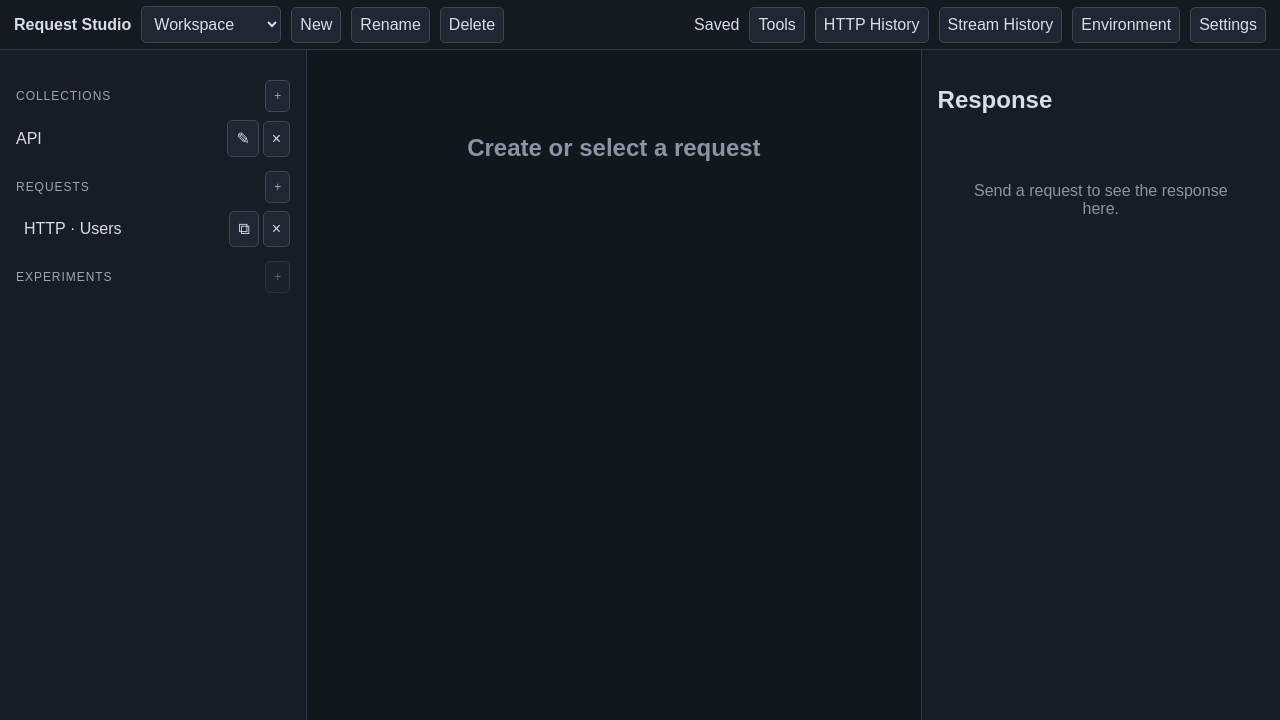
Test: opens and closes Request Export from the Tools menu
Check: the text "API" is shown, box [16, 130, 42, 146]
Click the button "Tools": (777, 24) [750, 6, 805, 42]
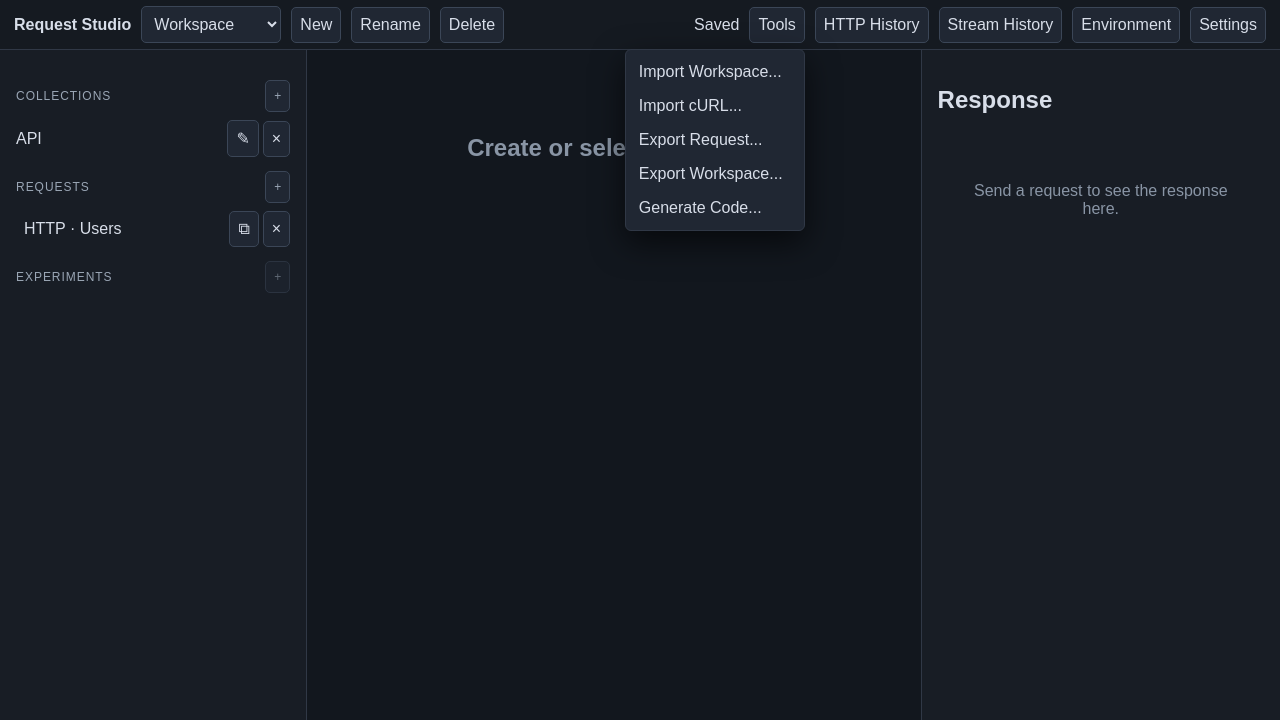
Click the menu item "Export Request...": (715, 140) [631, 122, 799, 156]
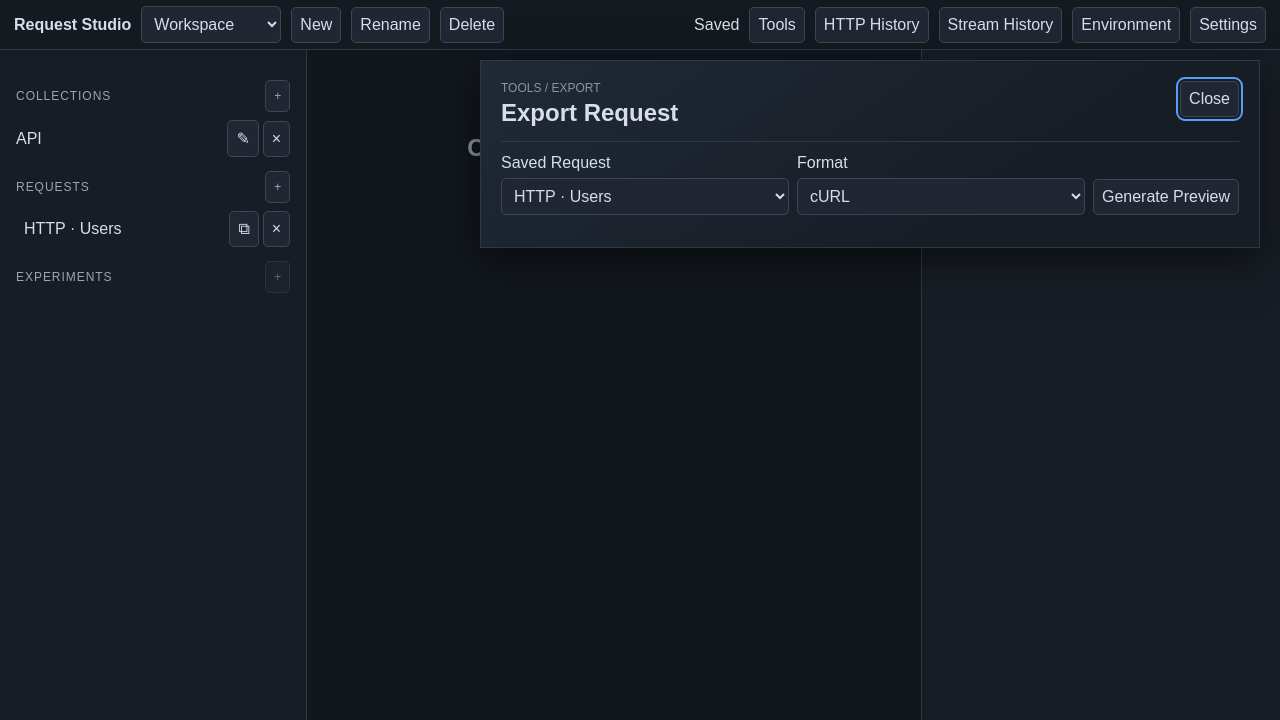
Check: the dialog "Export Request" is shown, box [480, 60, 1260, 248]
Click the button "Close": (1210, 99) [1180, 81, 1239, 117]
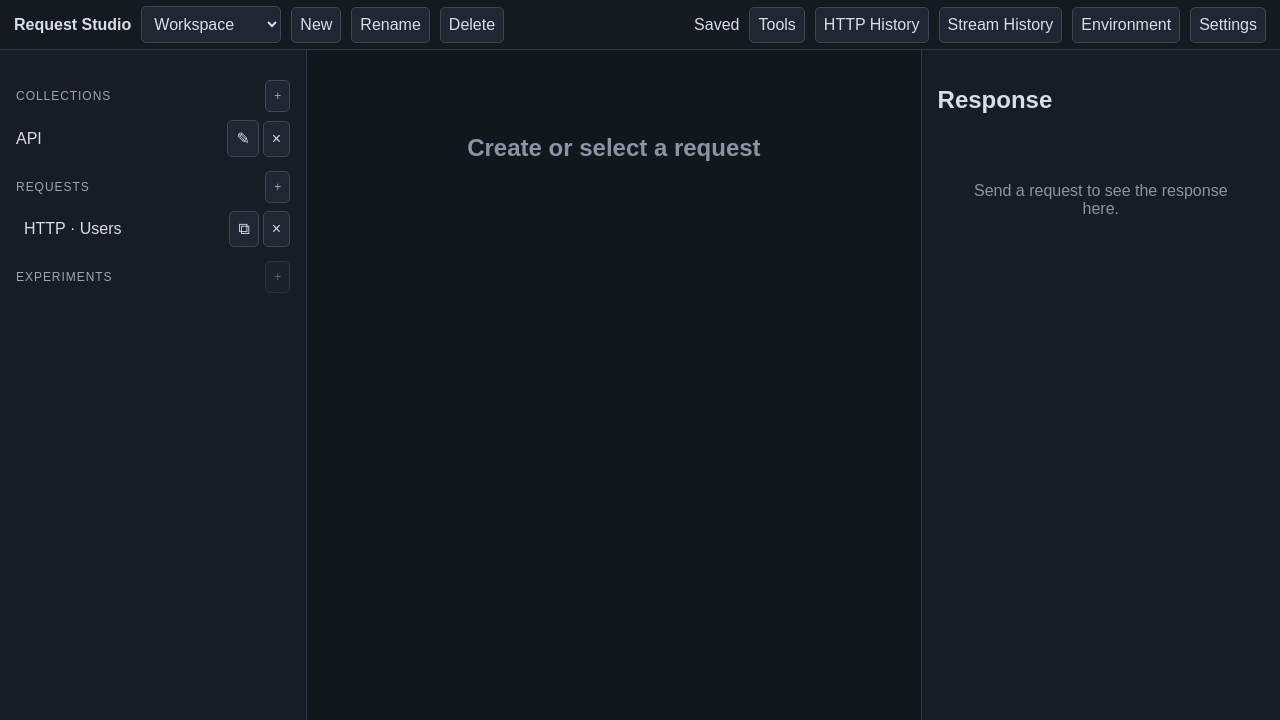
Check: the heading "Export Request" is gone
